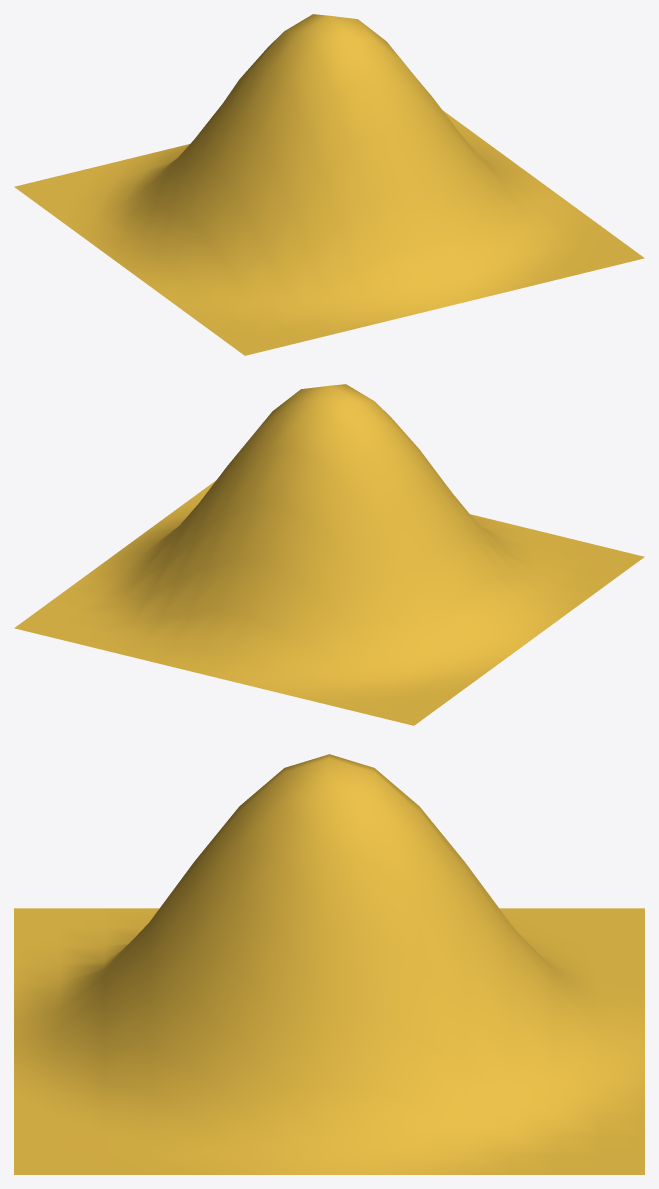
File: Sand.fbx
The picture shows the model from 3 angles, top to bottom: view 1: azimuth 30°, elevation 25°; view 2: azimuth 150°, elevation 25°; view 3: azimuth 270°, elevation 25°; orthographic projection. The views are drawn at different scales.
Visible parts, largest first — view 1: pPlane1; view 2: pPlane1; view 3: pPlane1.
Part boxes in pixels (x1,y1,x2,y2): pPlane1: (14,14,644,355); pPlane1: (14,384,644,725); pPlane1: (14,754,644,1174).
Size of the model in its own units: 1.99 by 0.9818 by 1.99.
